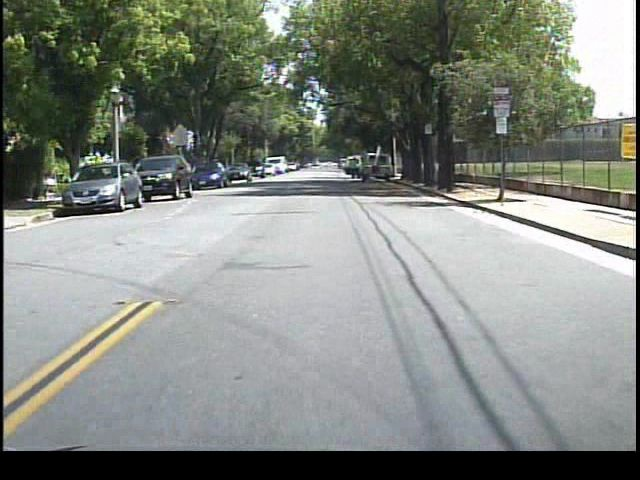person: (346, 155, 361, 181)
